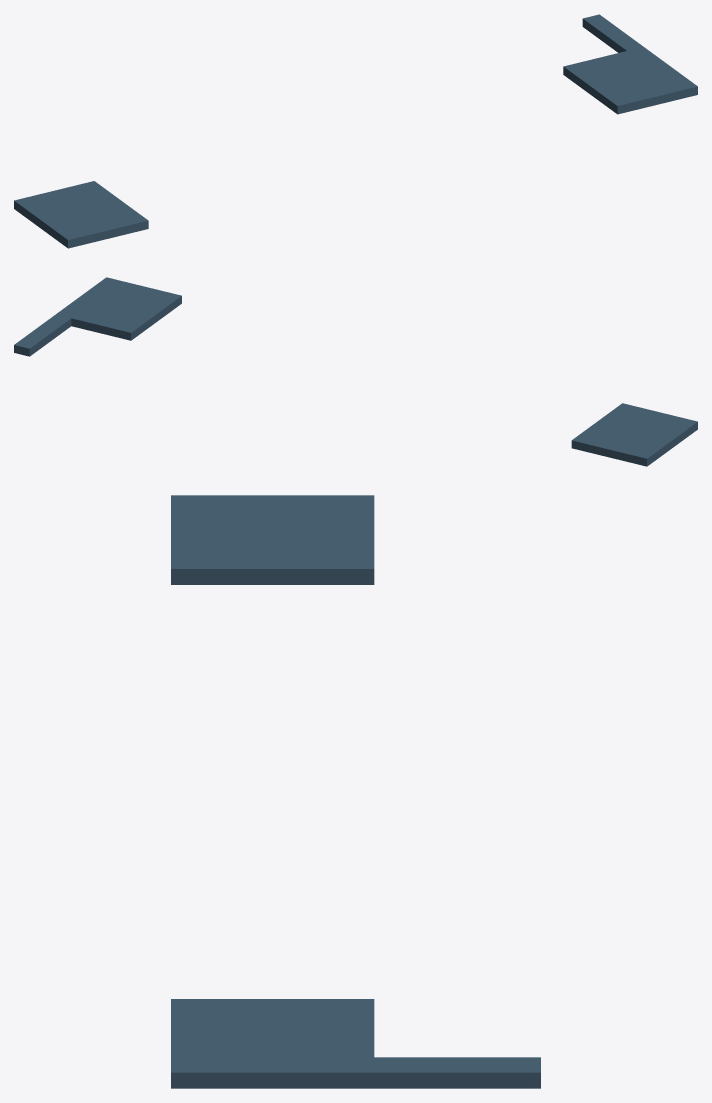
The model's file is v02-00-07-deck.glb.
3 views of the same model, one above another, from view 1: azimuth 30°, elevation 25°; view 2: azimuth 150°, elevation 25°; view 3: azimuth 270°, elevation 25° (orthographic). The views are drawn at different scales.
Parts seen in each view (by area): view 1: v02-00-07-deck; view 2: v02-00-07-deck; view 3: v02-00-07-deck.
Part boxes in pixels (left/top/right/bottom): v02-00-07-deck: left=14, top=14, right=697, bottom=248; v02-00-07-deck: left=14, top=277, right=697, bottom=466; v02-00-07-deck: left=171, top=495, right=540, bottom=1088.
Bounding box in the file's own units: 47 × 0.6 × 12.73.
